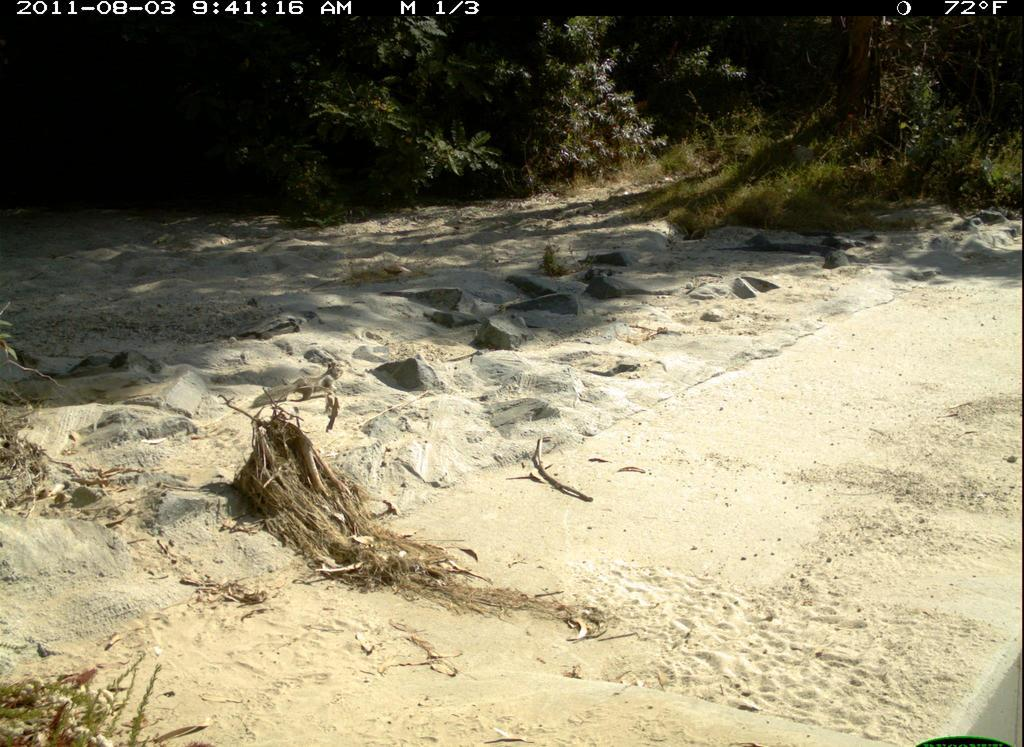squirrel: (249, 363, 357, 406)
